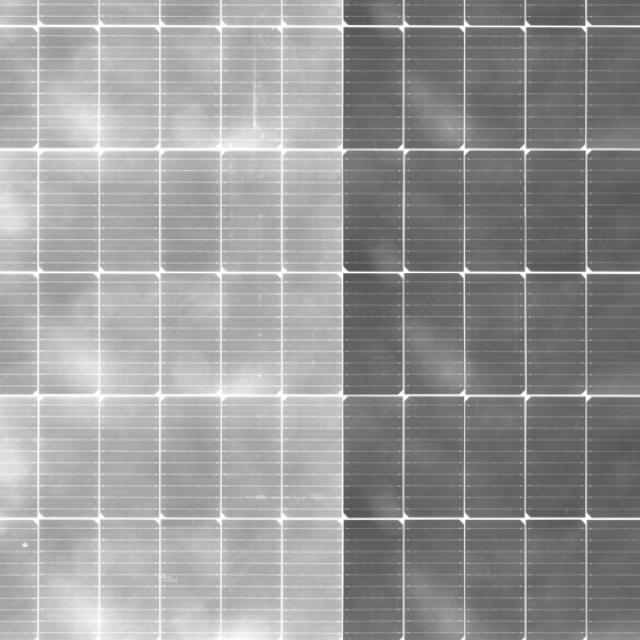CORRECT: (0, 0, 638, 640), (198, 68, 606, 560)
